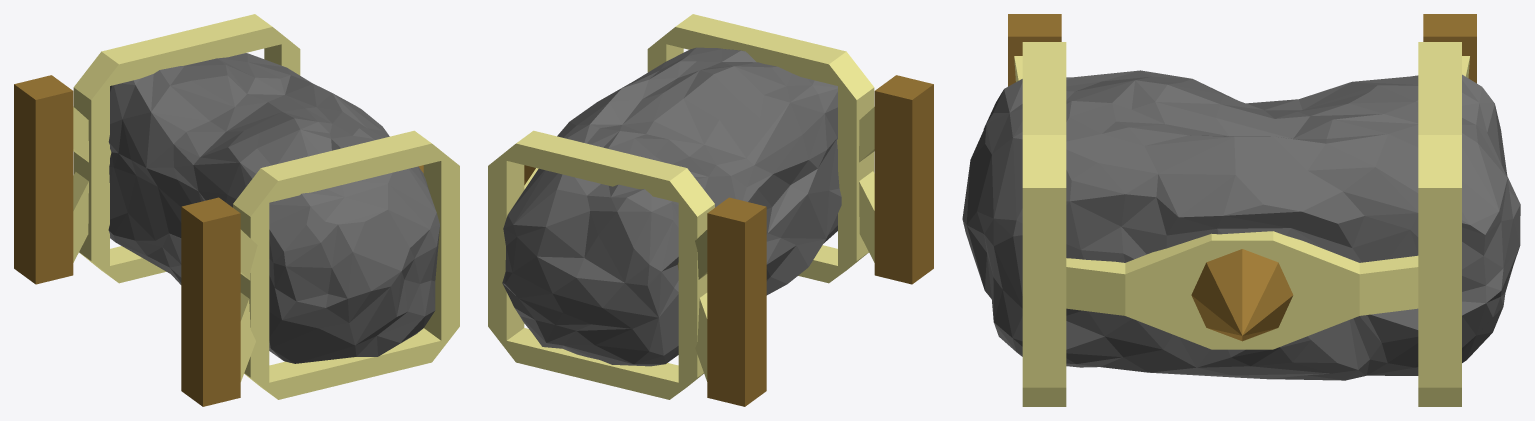
File: bumper_rock_spike.fbx
3 renders of one model, left to right at view 1: azimuth 30°, elevation 25°; view 2: azimuth 150°, elevation 25°; view 3: azimuth 270°, elevation 25°, orthographic. The views are drawn at different scales.
Parts seen in each view (by area): view 1: bumper_rock_spike; view 2: bumper_rock_spike; view 3: bumper_rock_spike.
Part boxes in pixels (x1,y1,x2,y2): bumper_rock_spike: (14, 14, 459, 406); bumper_rock_spike: (488, 14, 933, 406); bumper_rock_spike: (962, 14, 1520, 406).
Size of the model in its own units: 198 by 122 by 225.
